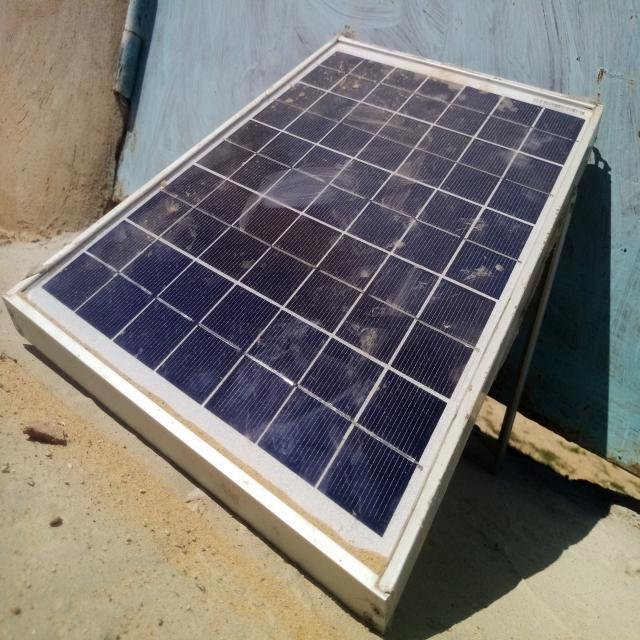faulty: (6, 35, 598, 593)
